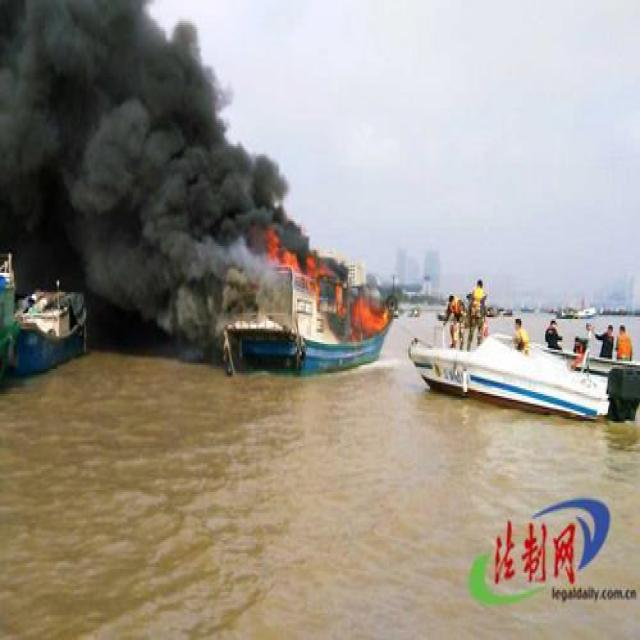fire: (269, 229, 389, 342)
smoke: (0, 0, 286, 334)
